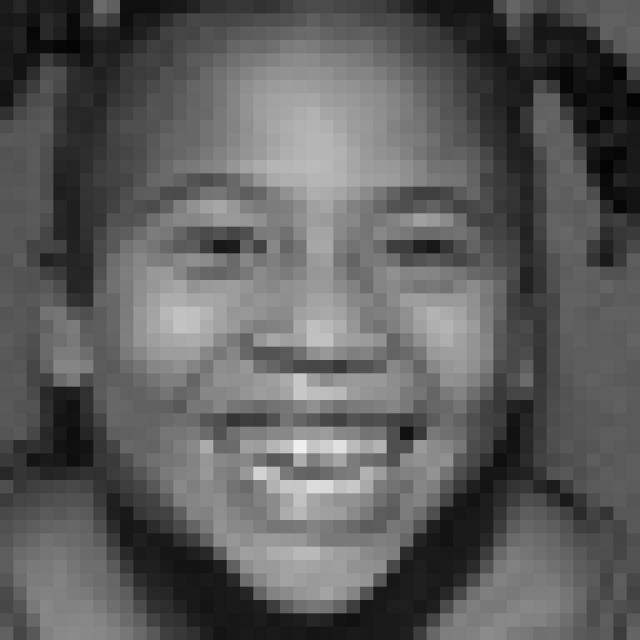happy: (134, 160, 499, 549)
